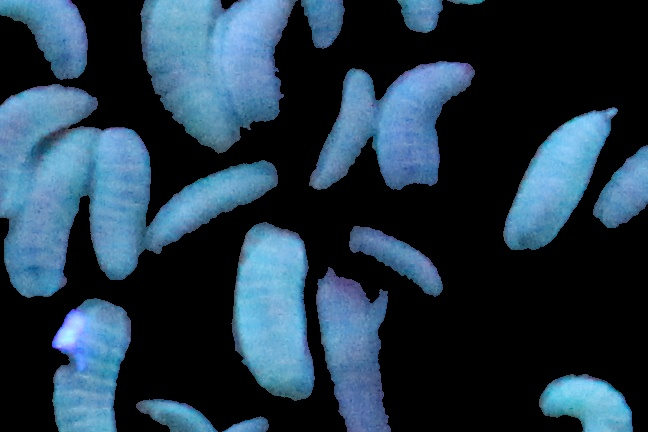larvae: (4, 127, 99, 299), (501, 105, 613, 249), (140, 1, 244, 151), (232, 222, 314, 402), (144, 155, 280, 262), (313, 267, 393, 432), (1, 83, 98, 214), (376, 60, 474, 187), (48, 299, 129, 432), (212, 1, 290, 122), (90, 128, 148, 280), (1, 1, 96, 89), (308, 70, 375, 192), (351, 227, 448, 300), (539, 375, 634, 432), (592, 146, 646, 231), (297, 1, 346, 50), (397, 1, 443, 34)
